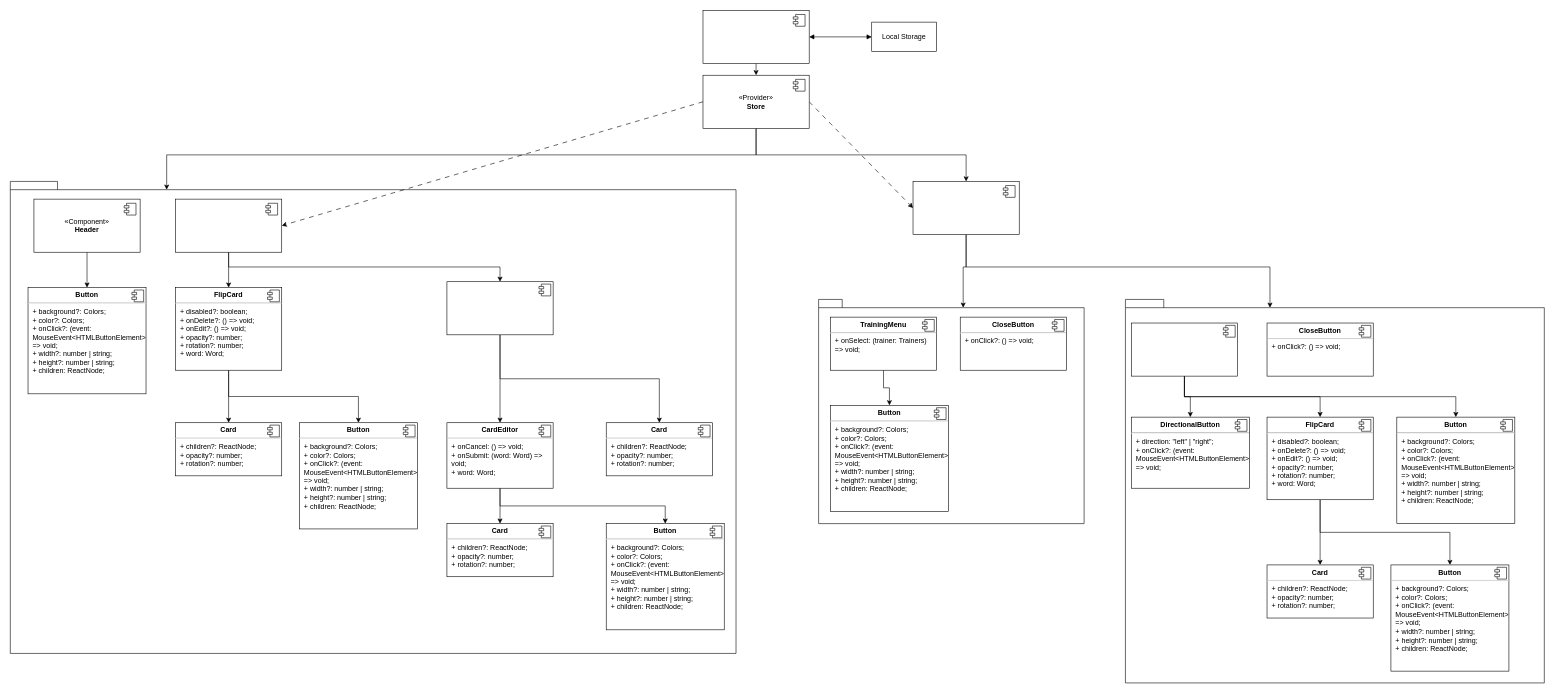
The diagram is 1555 pixels wide and 693 high, and some of its shapes have lost their labels. The shapes that lost their labels are listed below. From the top down, each one's centre as x and y in pixels, then its label:
At (x=755, y=36): "«Component» App".
At (x=228, y=225): "«Component» CardList".
At (x=965, y=208): "«Component» CardTrainer".
At (x=499, y=308): "AddCard + onClick: (word: Word) => void;".
At (x=1184, y=349): "WritingTrainer + words: Word[];".
